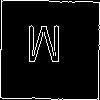M: (25, 25, 63, 72)
